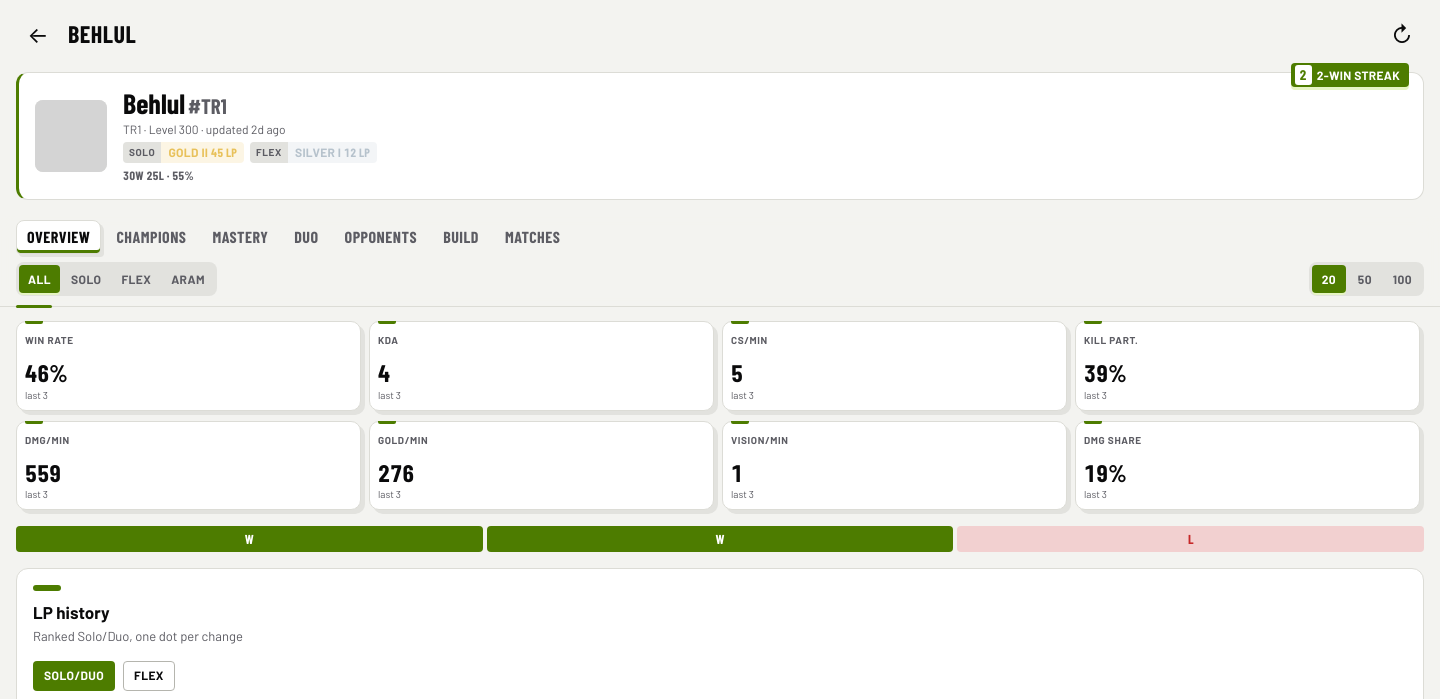
Scenario: League player page, older server (no stats endpoint) › switches the LP chart to flex, asking for the flex history only then
Expected: the text "Ranked Solo/Duo, one dot per change" is shown, [33,628,243,644]
Click the button "Flex" below "Ranked Solo/Duo, one dot per change": (149, 676) [123,661,175,691]
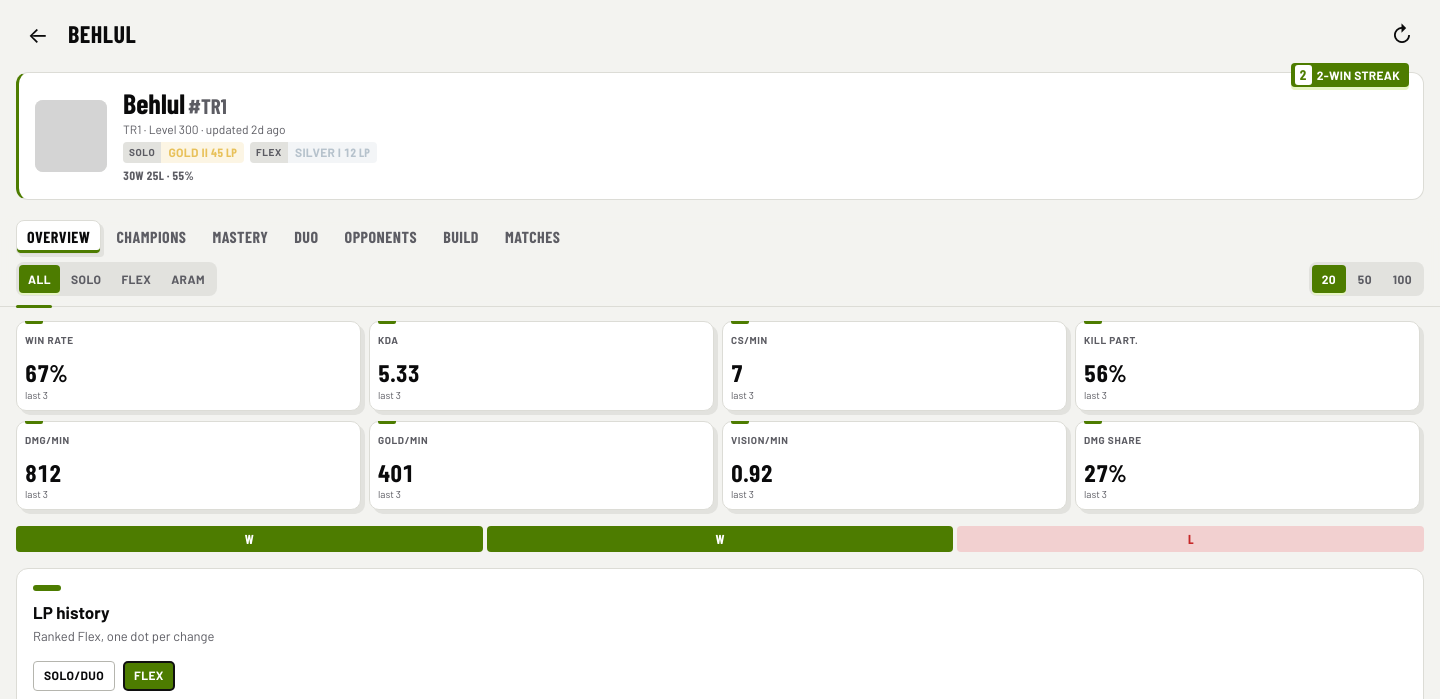
Expected: the text "Ranked Flex, one dot per change" is shown, [33,628,214,644]
